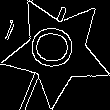O_E: (29, 27, 84, 75)
